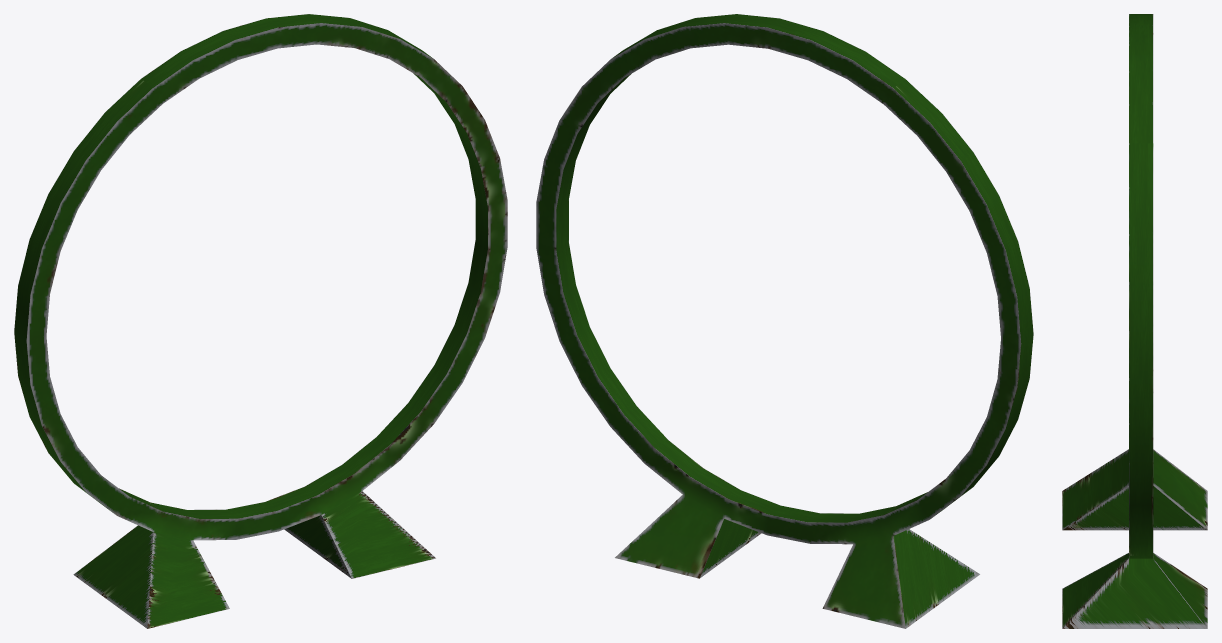
File: mPortalFrame.fbx
3 renders of one model, left to right at view 1: azimuth 30°, elevation 25°; view 2: azimuth 150°, elevation 25°; view 3: azimuth 270°, elevation 25°, orthographic. The views are drawn at different scales.
Visible parts, largest first — view 1: pPipe1; view 2: pPipe1; view 3: pPipe1.
Boxes of the visible parts, x1=… form: pPipe1: x1=14, y1=14, x2=507, y2=628; pPipe1: x1=536, y1=14, x2=1033, y2=628; pPipe1: x1=1062, y1=14, x2=1207, y2=628.
Bounding box in the file's own units: 24.32 × 25.9 × 6.49.
1 material, 1 textured.
